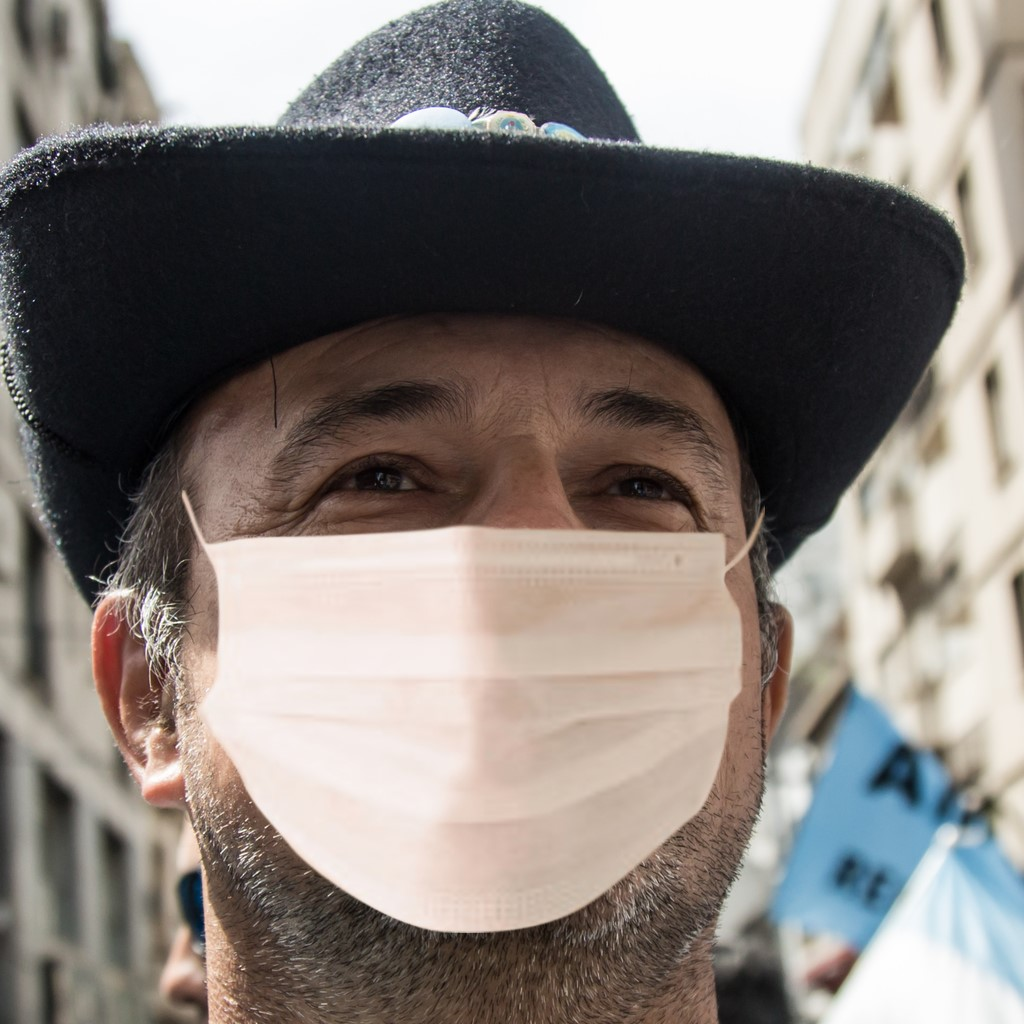con_mascara: (146, 265, 779, 975)
